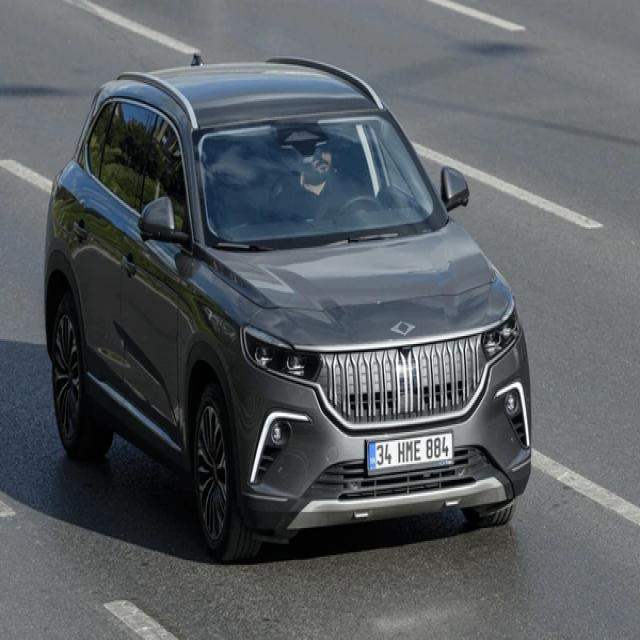togg: (387, 316, 418, 339)
